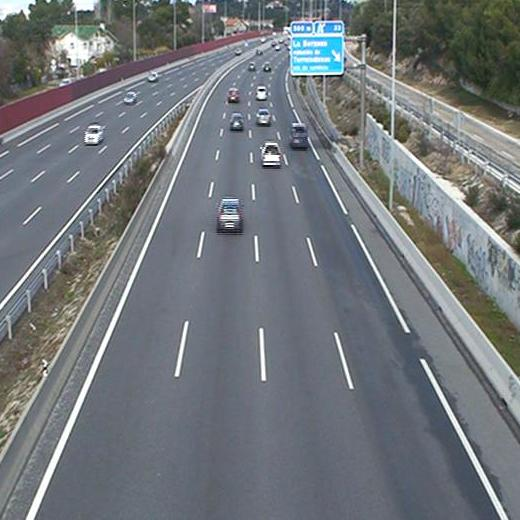car: (218, 199, 242, 232), (261, 142, 282, 167), (229, 113, 243, 132), (257, 110, 271, 124), (227, 88, 240, 103), (255, 87, 267, 100), (262, 61, 271, 73)
van: (291, 124, 307, 149)
